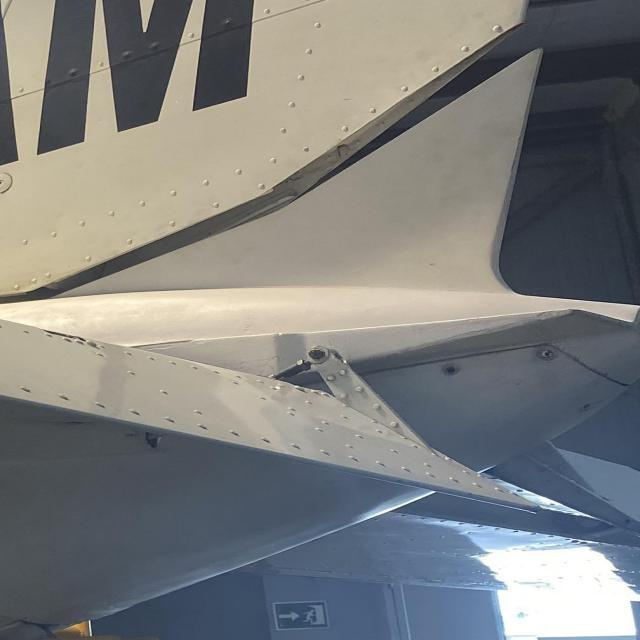Paint-off: (376, 311, 535, 338), (443, 319, 546, 344), (537, 309, 572, 320)
